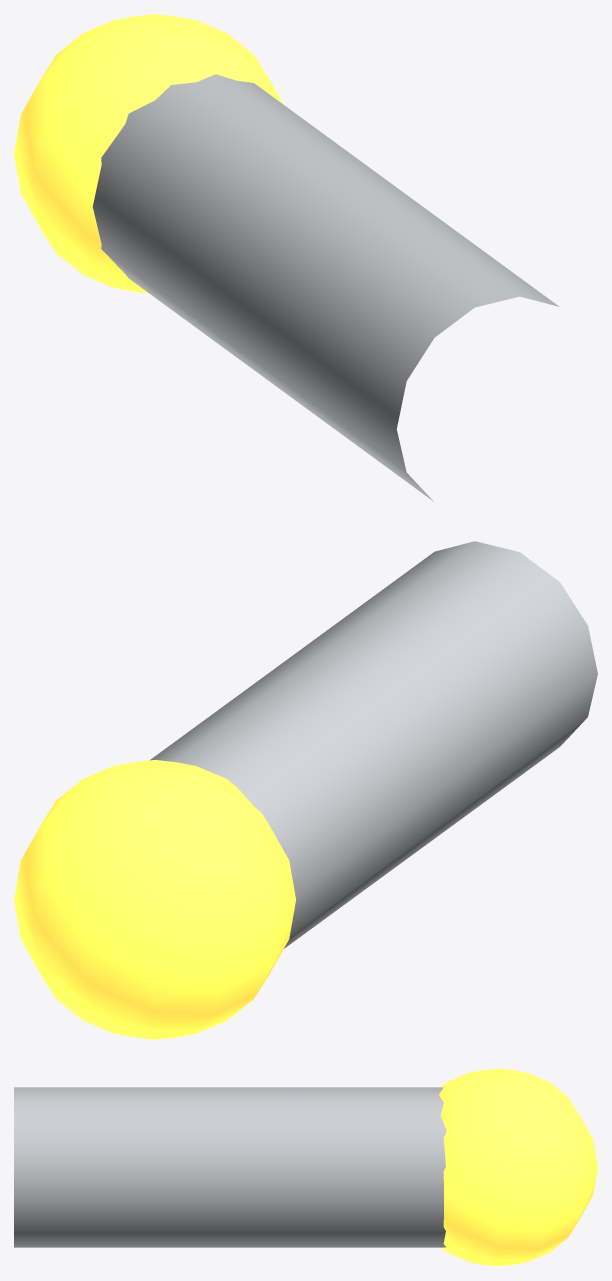
File: rocket.glb
3 renders of one model, top to bottom at view 1: azimuth 30°, elevation 25°; view 2: azimuth 150°, elevation 25°; view 3: azimuth 270°, elevation 25°, orthographic. The views are drawn at different scales.
Parts seen in each view (by area): view 1: Rocket; view 2: Rocket; view 3: Rocket.
Boxes of the visible parts, box(x1,y1,x2,y2) form: Rocket: box(14, 14, 559, 501); Rocket: box(14, 541, 597, 1039); Rocket: box(14, 1068, 597, 1266).
Bounding box in the file's own units: 0.68 × 0.68 × 1.99.
